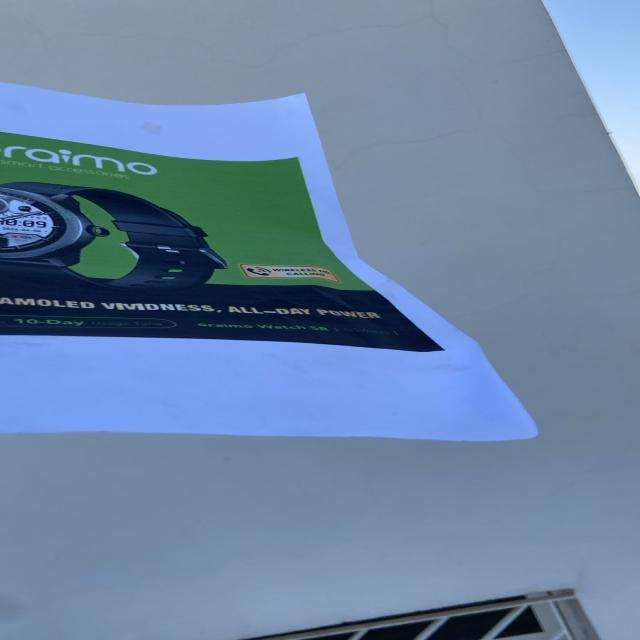Oraimo Watch 5R OSW-820: (199, 320, 411, 343)
